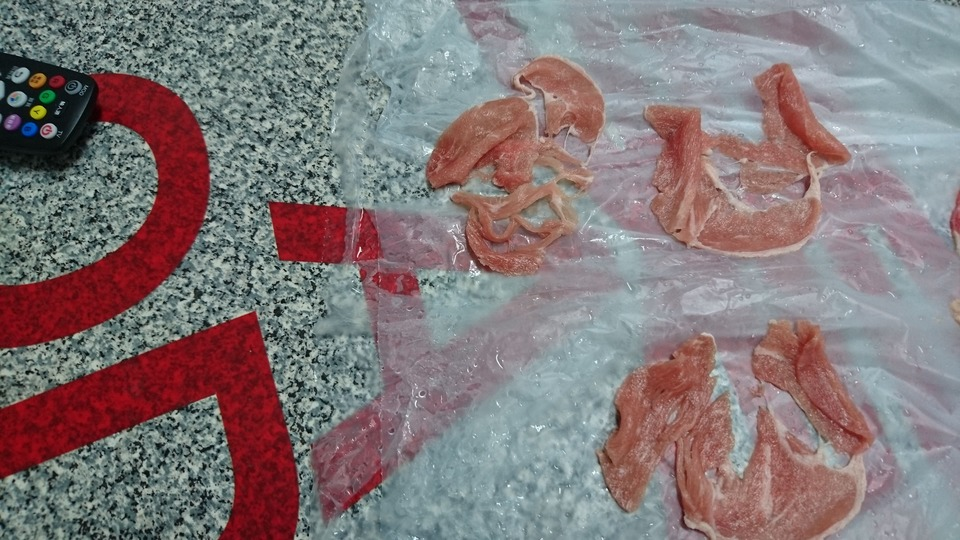restructured meat: (599, 315, 879, 540), (644, 55, 855, 268), (429, 53, 608, 281)
